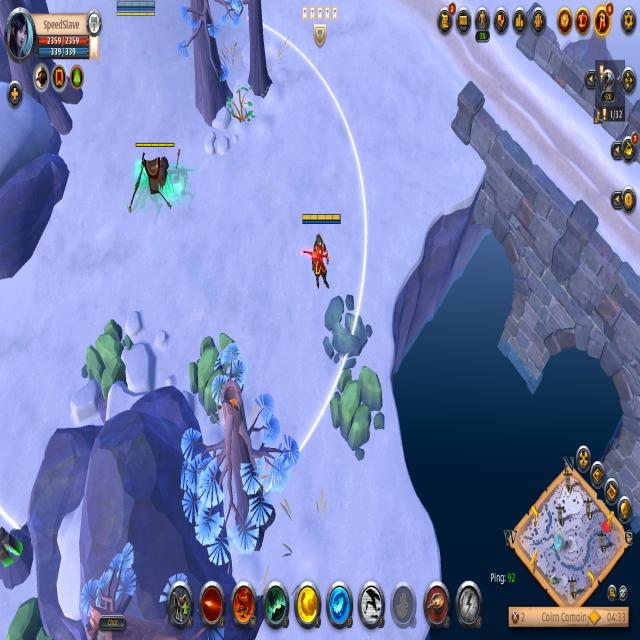player: (0, 503, 37, 589)
red: (299, 208, 341, 294), (115, 0, 157, 21)
tree: (328, 353, 389, 473), (184, 328, 248, 426), (78, 313, 135, 406), (2, 592, 44, 639)
